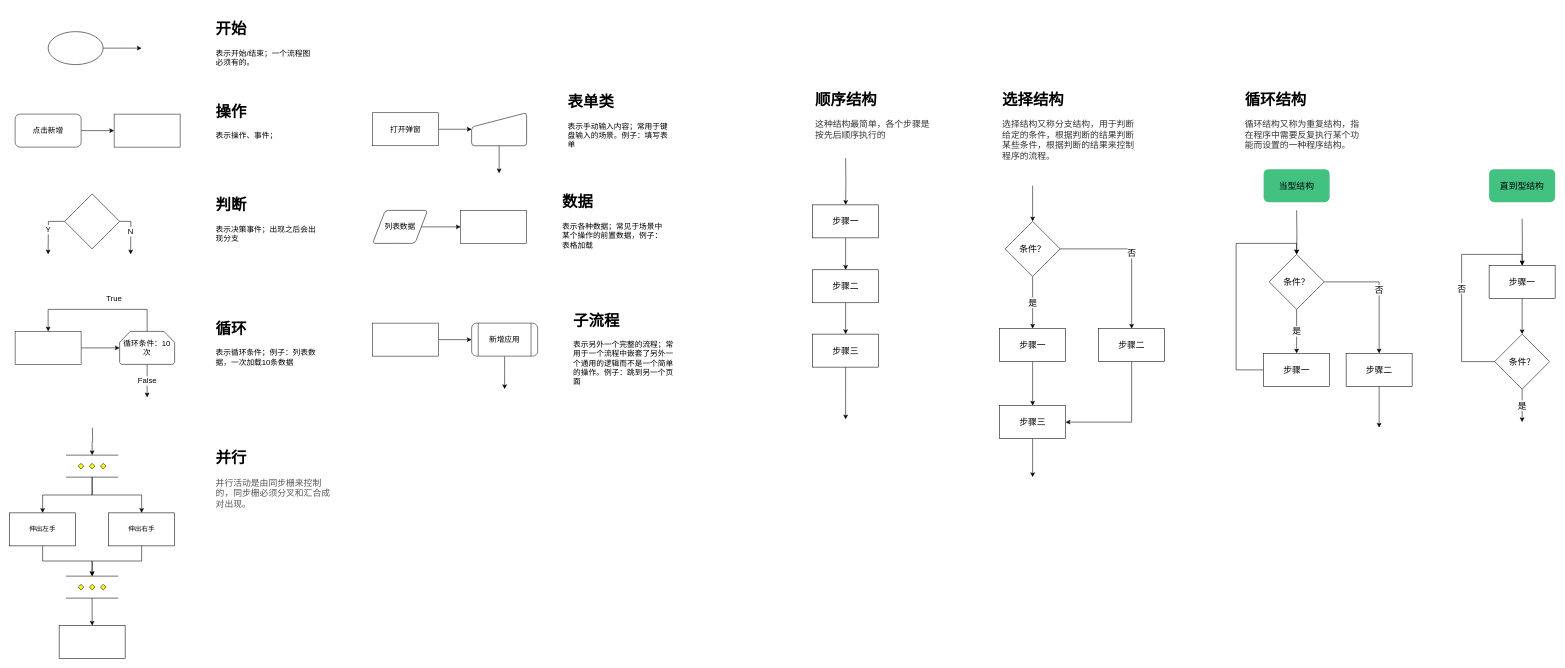
The diagram is 1565 pixels wide and 668 high, and some of its shapes have lost their labels. Here are the shapes that lost their labels. From the top down, the box of each, then its label:
(48, 31, 103, 65): 开始
(114, 114, 180, 147): 出现弹窗
(471, 112, 527, 146): 输入账号密码
(64, 193, 120, 249): 是否正确
(460, 210, 527, 243): 渲染数据
(15, 331, 81, 364): 获取一次列表数据
(372, 323, 439, 356): 跳到应用页
(59, 625, 125, 659): 十指交叉
